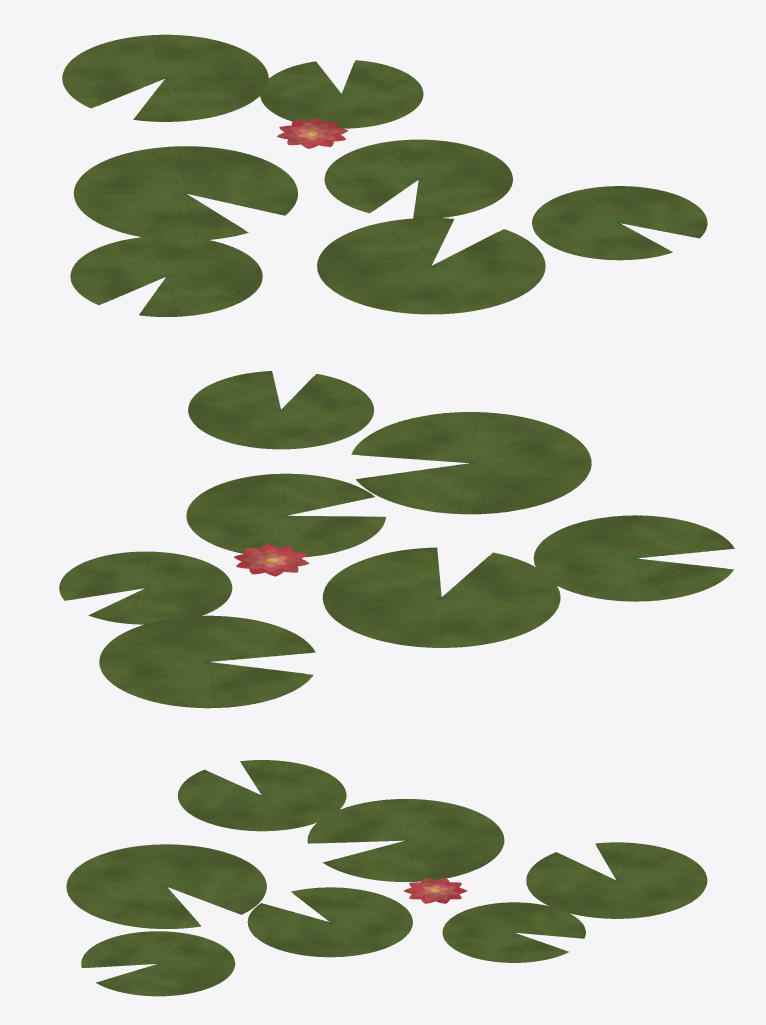
The model's file is WaterLily_2_LOD1.gltf.
3 renders of one model, top to bottom at view 1: azimuth 30°, elevation 25°; view 2: azimuth 150°, elevation 25°; view 3: azimuth 270°, elevation 25°, orthographic. The views are drawn at different scales.
Visible parts, largest first — view 1: WaterLily_2_LOD1; view 2: WaterLily_2_LOD1; view 3: WaterLily_2_LOD1.
Part boxes in pixels (x1,y1,x2,y2): WaterLily_2_LOD1: [62, 34, 707, 316]; WaterLily_2_LOD1: [59, 371, 734, 708]; WaterLily_2_LOD1: [66, 760, 707, 996].
Bounding box in the file's own units: 0.9568 × 0.0193 × 1.11.
2 materials, 2 textured.
